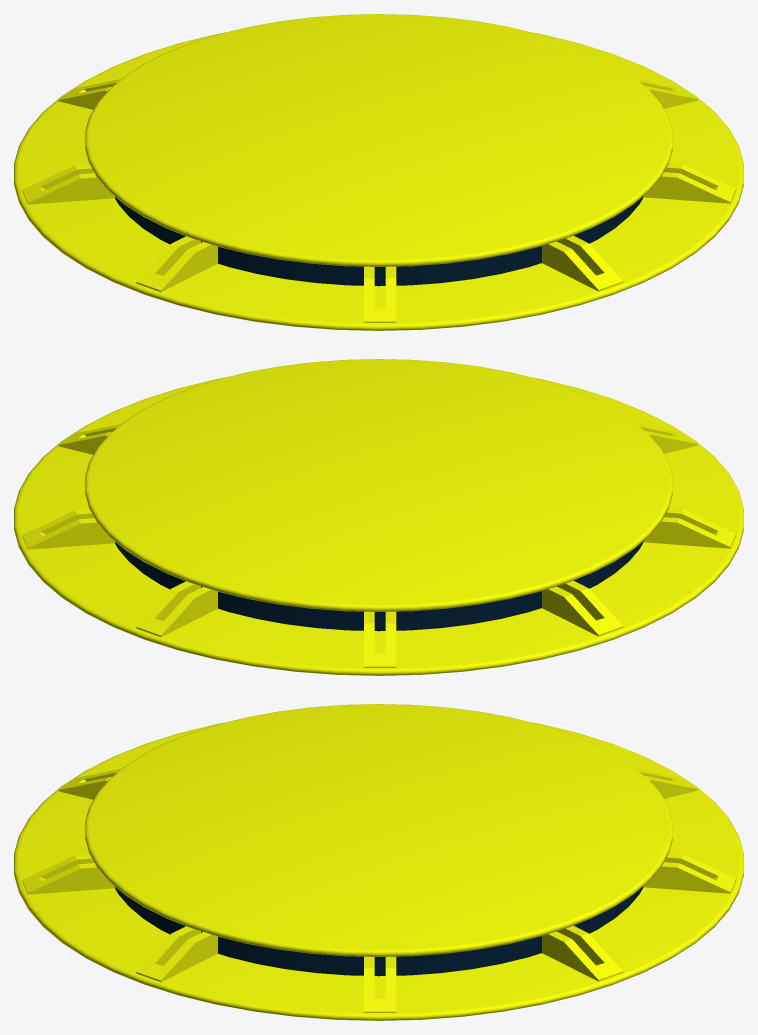
The model's file is platform_4.fbx.
3 views of the same model, one above another, from view 1: azimuth 30°, elevation 25°; view 2: azimuth 150°, elevation 25°; view 3: azimuth 270°, elevation 25° (orthographic).
Parts seen in each view (by area): view 1: Cylinder003; view 2: Cylinder003; view 3: Cylinder003.
Boxes of the visible parts, bbox=[...] form: Cylinder003: bbox=[14, 14, 743, 330]; Cylinder003: bbox=[14, 359, 743, 675]; Cylinder003: bbox=[14, 704, 743, 1020].
Bounding box in the file's own units: 600 × 36.66 × 599.
